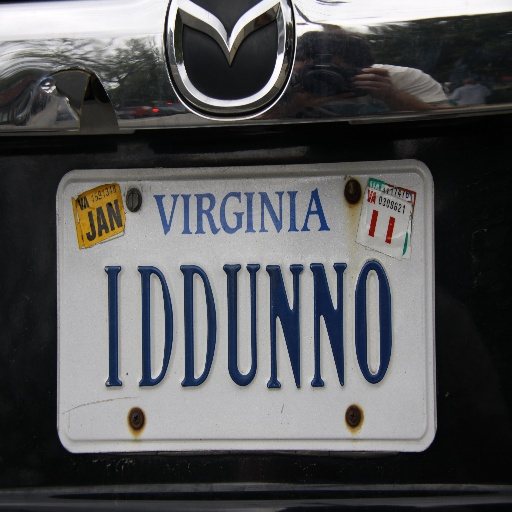hand: (354, 68, 393, 102)
